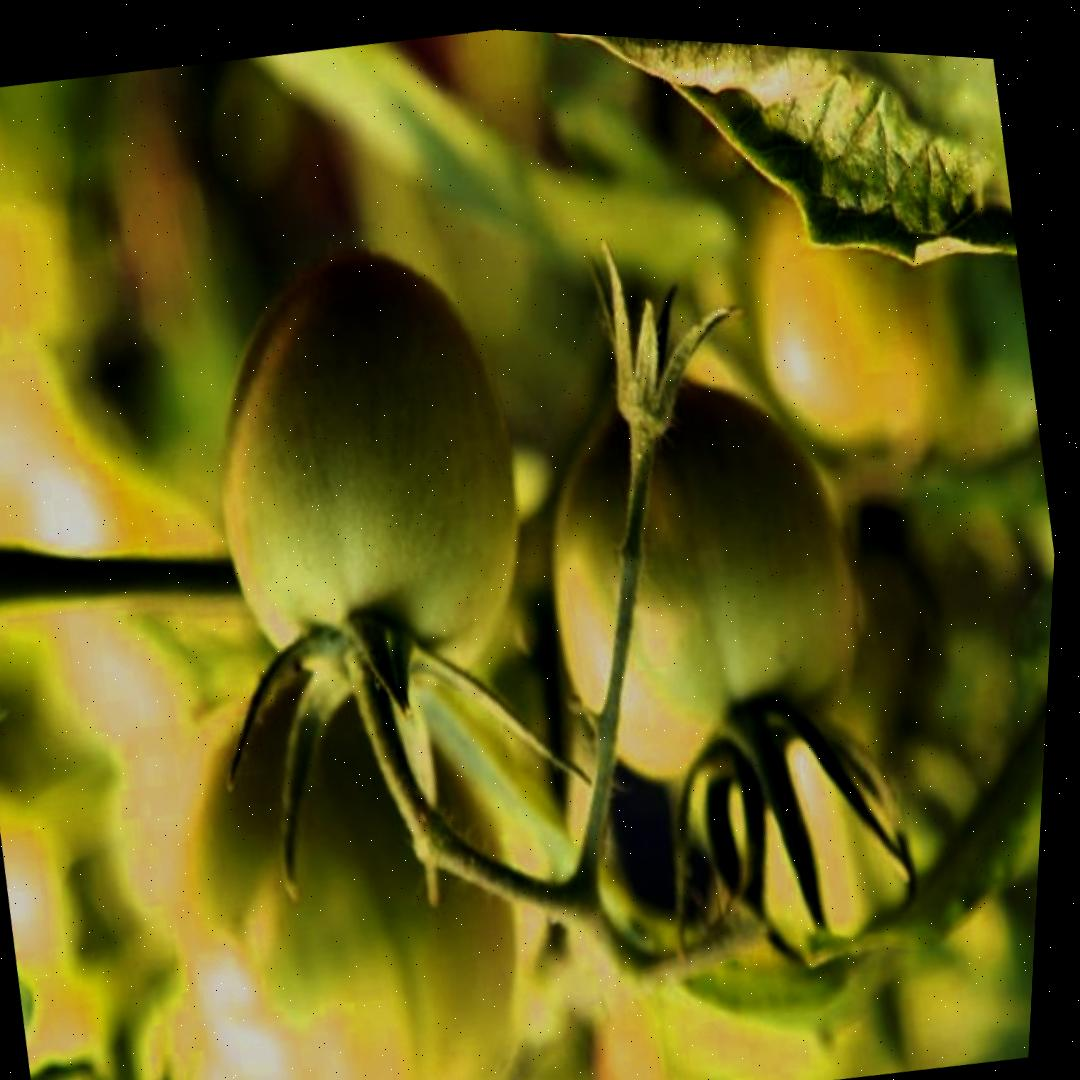mentah: (163, 211, 562, 724), (504, 337, 902, 826)
